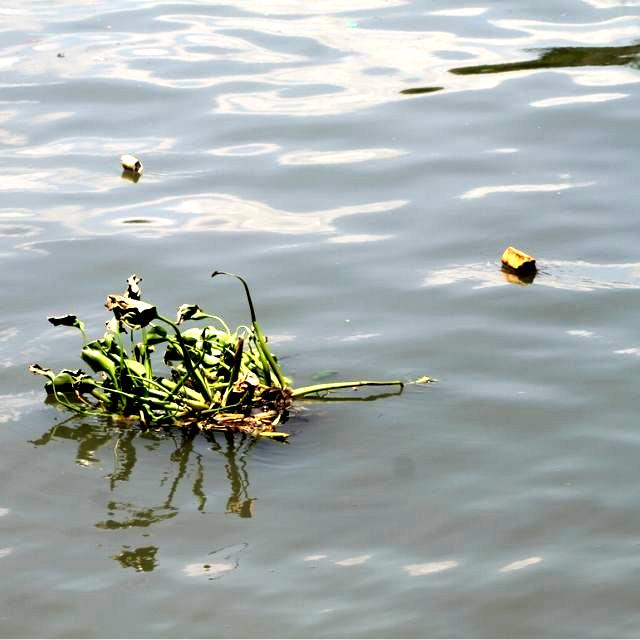water-hyacinth: (36, 269, 409, 444)
